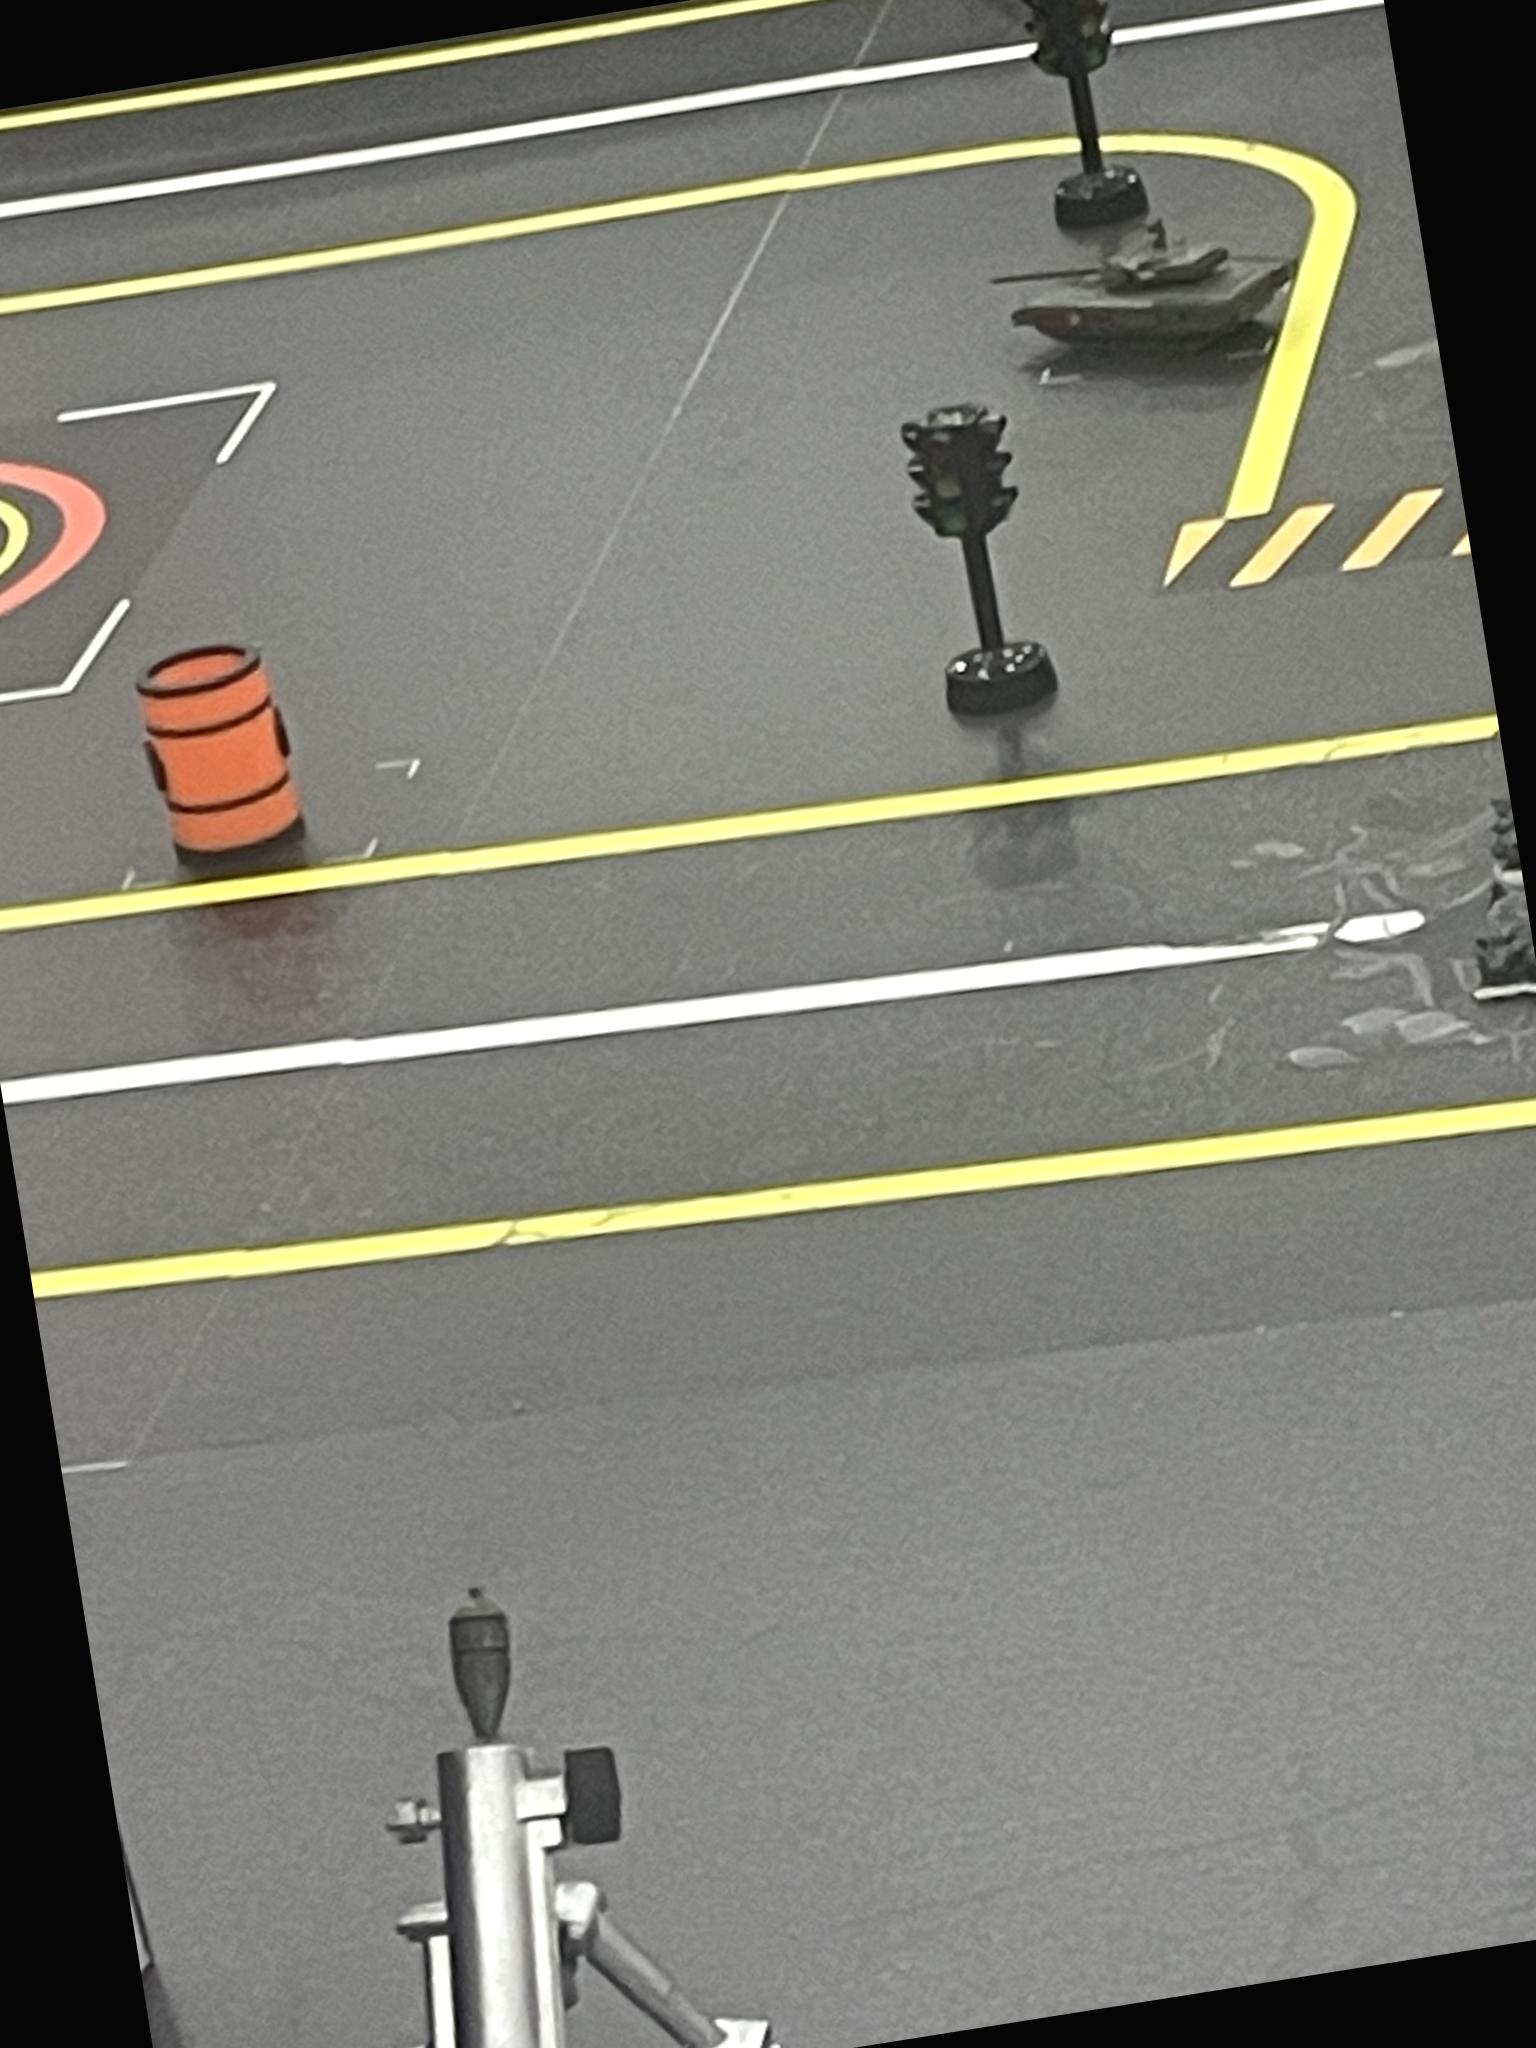Hazmat: (127, 645, 310, 861)
Mortar: (302, 1559, 789, 2048)
Tank: (989, 205, 1315, 376)
